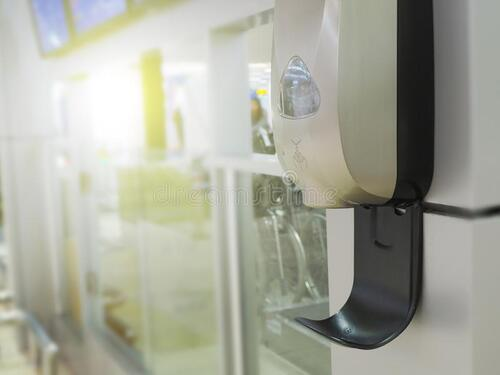sanitizer: (267, 2, 426, 216)
